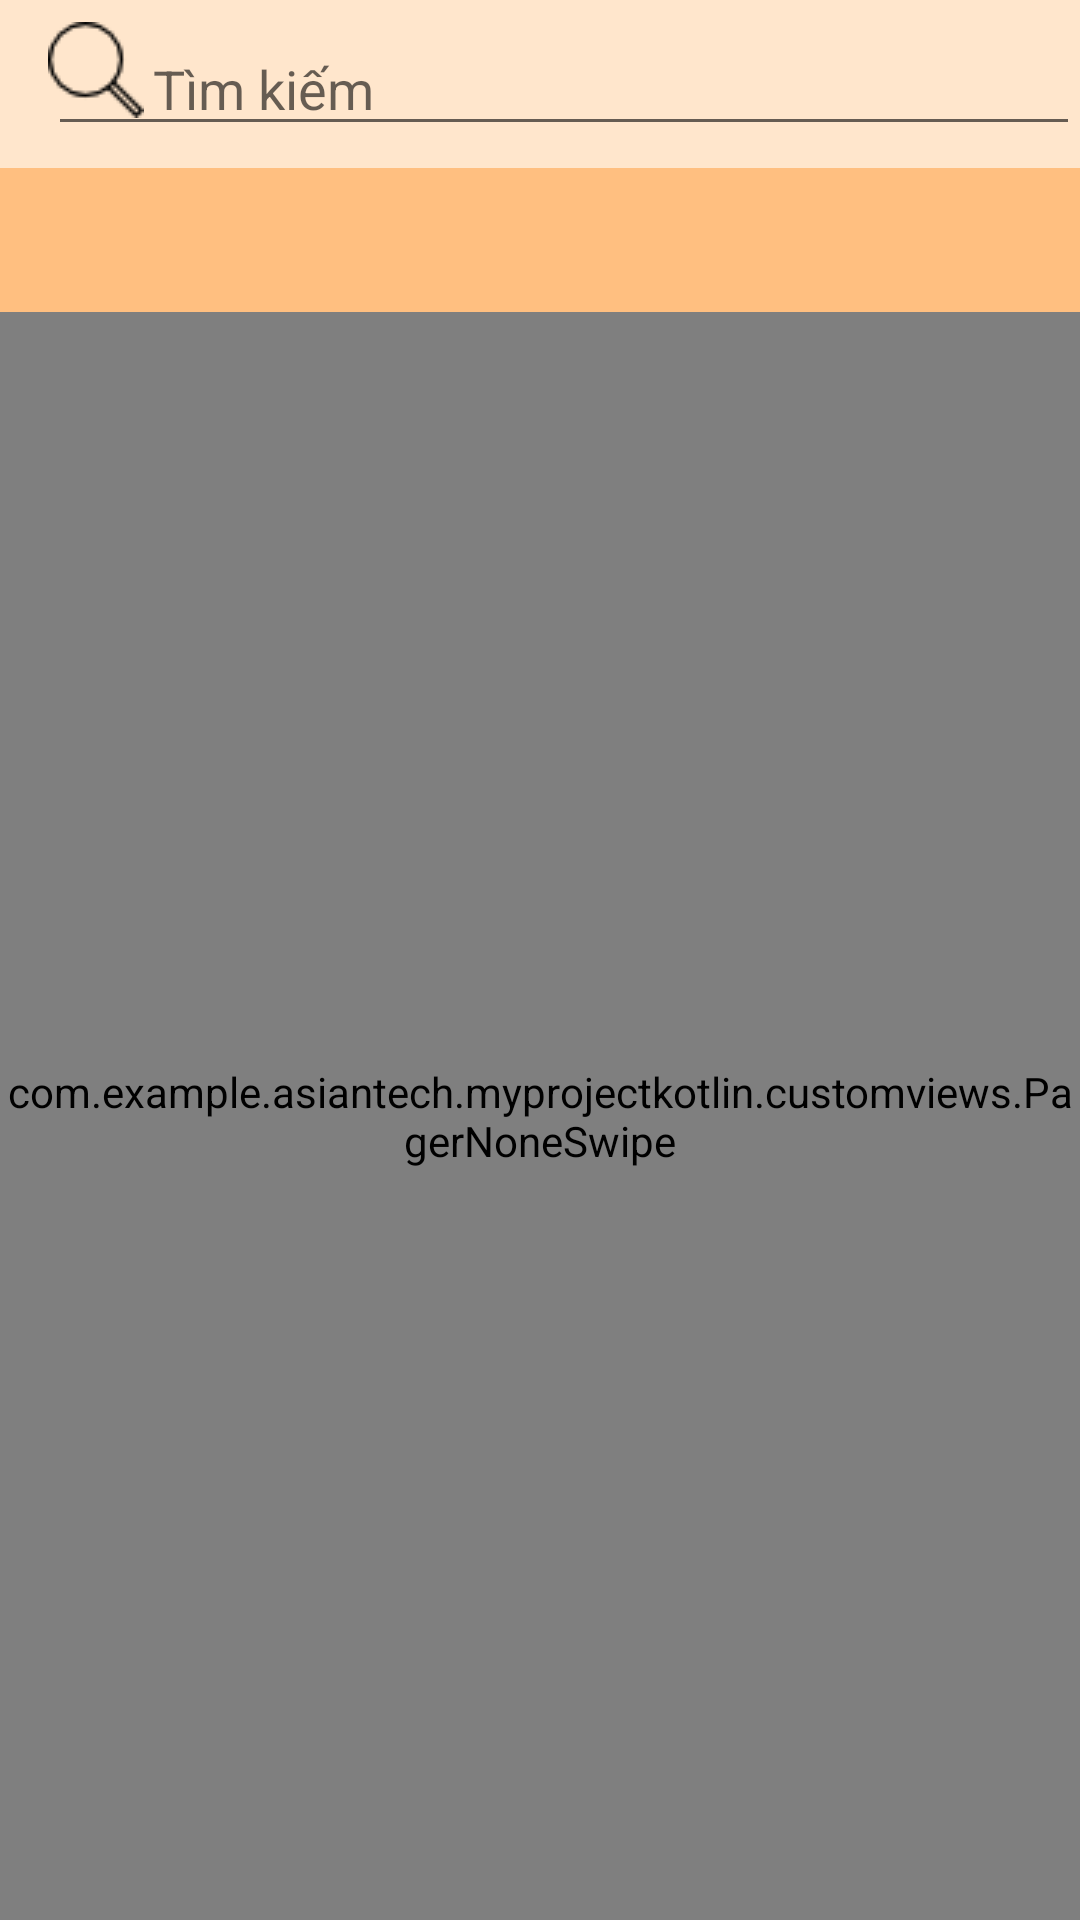

Point at icon controls on the screen. Image size 1080w x 1920h, points as point (x, y).
search: point (96, 70)
